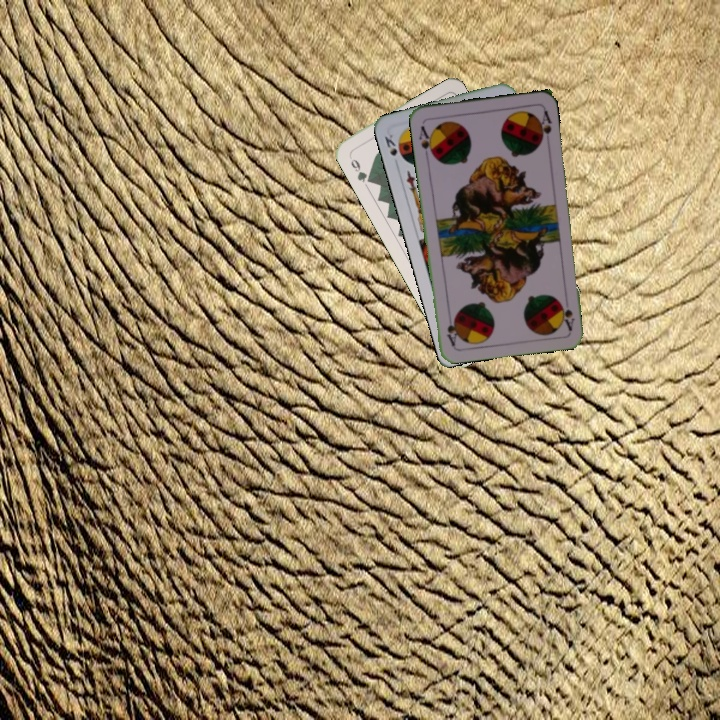G9: (345, 150, 374, 185)
SA: (415, 122, 437, 160), (557, 298, 577, 333)
SK: (381, 130, 400, 159)
